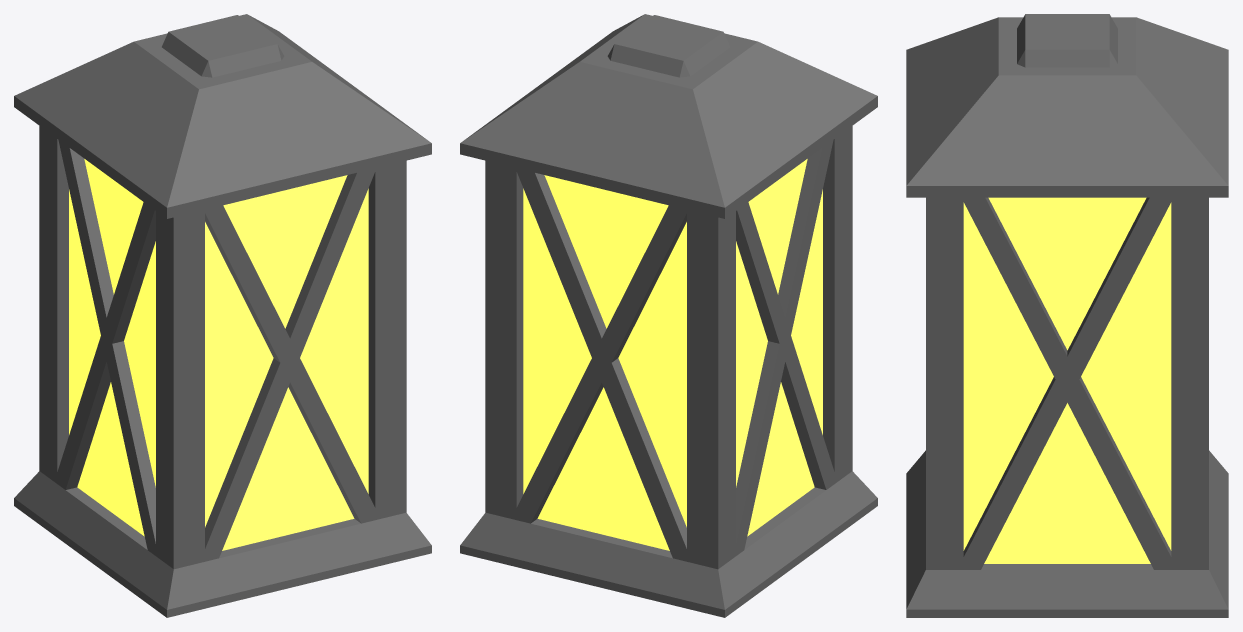
File: Lamp0.fbx
The picture shows the model from 3 angles, left to right: view 1: azimuth 30°, elevation 25°; view 2: azimuth 150°, elevation 25°; view 3: azimuth 270°, elevation 25°; orthographic projection. The views are drawn at different scales.
Parts seen in each view (by area): view 1: Lamp1; view 2: Lamp1; view 3: Lamp1.
Part boxes in pixels (x1,y1,x2,y2): Lamp1: (14,14,431,617); Lamp1: (460,14,877,617); Lamp1: (906,14,1228,617).
Size of the model in its own units: 19.76 by 35.07 by 19.76.
